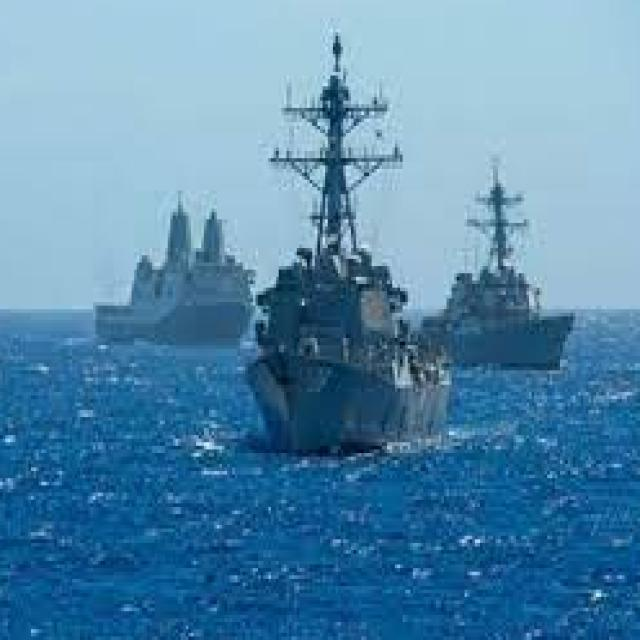navalvessels: (243, 43, 449, 471), (440, 150, 579, 368), (90, 170, 256, 334)
